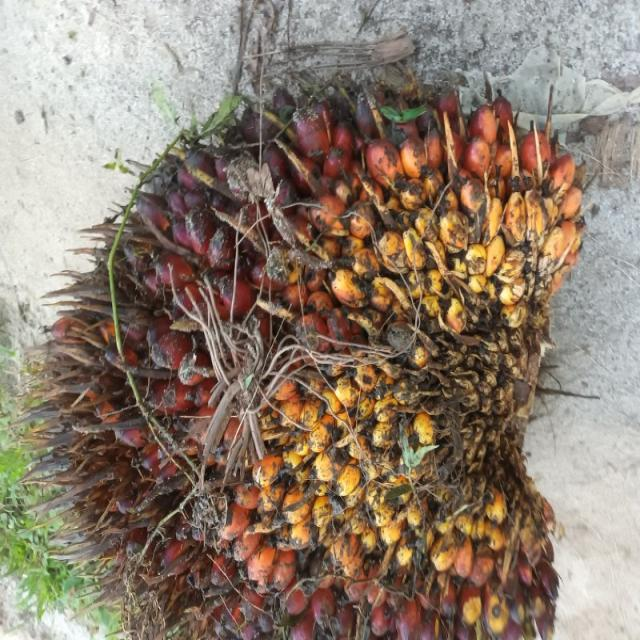fraksi 1: (68, 0, 625, 580)
